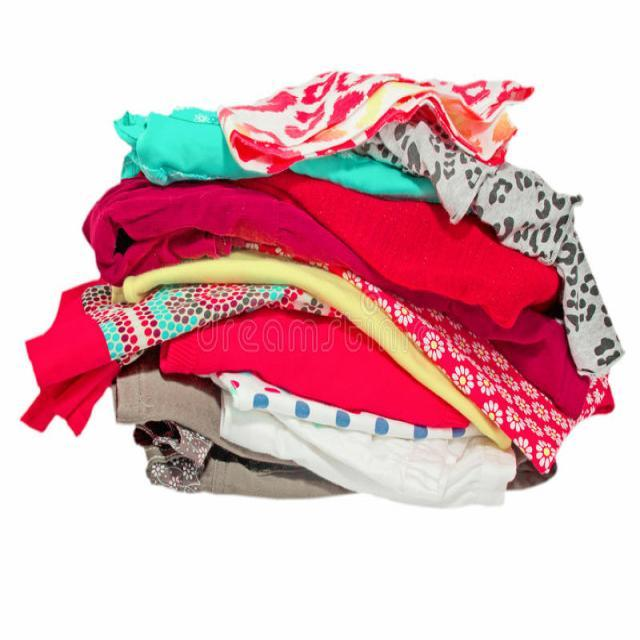clothes: (51, 75, 624, 516)
